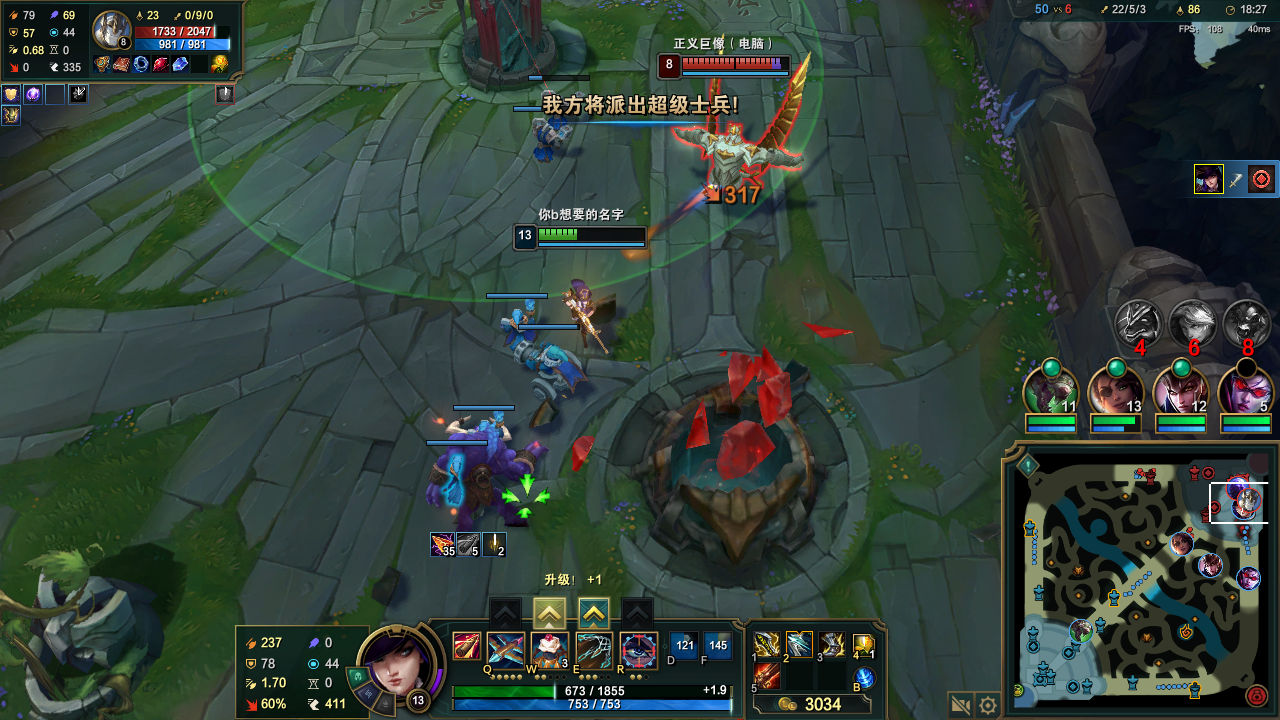DFYX: (679, 59, 788, 75)
Shenji: (579, 602, 604, 627)
Tuijianshengji: (539, 602, 564, 627)
WFXB: (527, 350, 579, 397), (531, 117, 564, 162), (502, 304, 537, 342), (447, 463, 466, 506), (548, 110, 576, 130)
